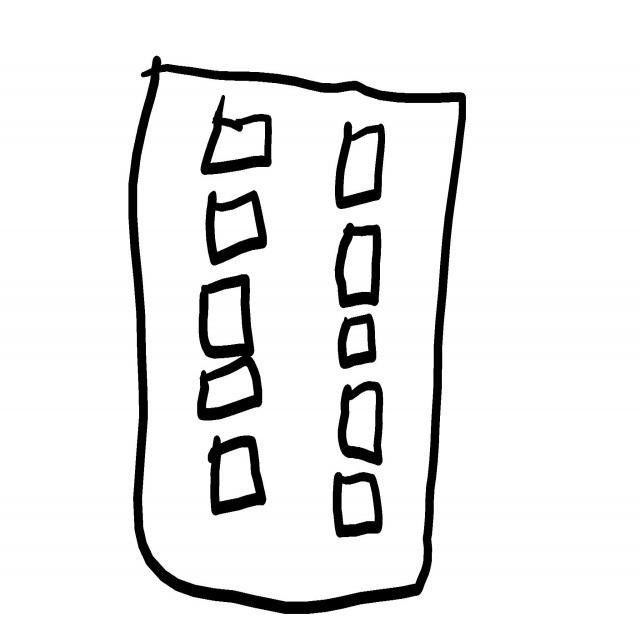house: (130, 59, 466, 614)
wall: (129, 57, 466, 614)
window: (202, 95, 271, 174), (199, 275, 254, 359), (206, 191, 267, 265), (209, 437, 266, 516), (336, 122, 385, 208), (197, 357, 262, 421), (338, 382, 384, 466), (333, 473, 383, 538), (339, 315, 377, 369), (346, 236, 373, 294)
